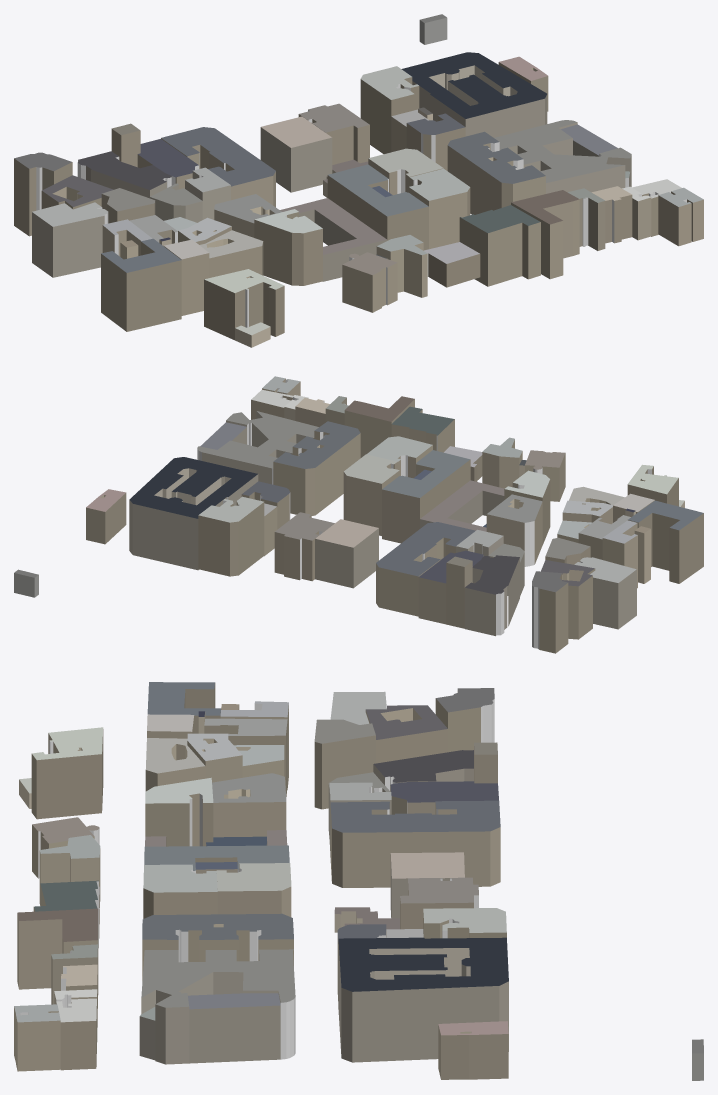
The picture shows the model from 3 angles, top to bottom: view 1: azimuth 30°, elevation 25°; view 2: azimuth 150°, elevation 25°; view 3: azimuth 270°, elevation 25°; orthographic projection. The views are drawn at different scales.
Parts seen in each view (by area): view 1: tuile; view 2: tuile; view 3: tuile.
Part boxes in pixels (x1,y1,x2,y2): tuile: (14, 14, 703, 347); tuile: (14, 376, 703, 653); tuile: (14, 682, 703, 1080).
Bounding box in the file's own units: 263 × 35.68 × 234.
